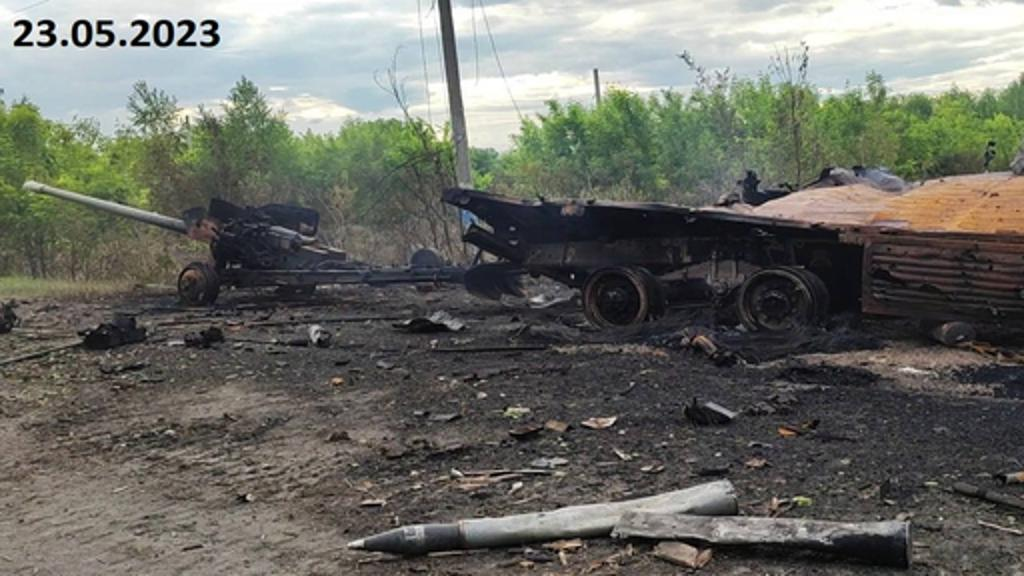ART: (20, 178, 442, 308)
